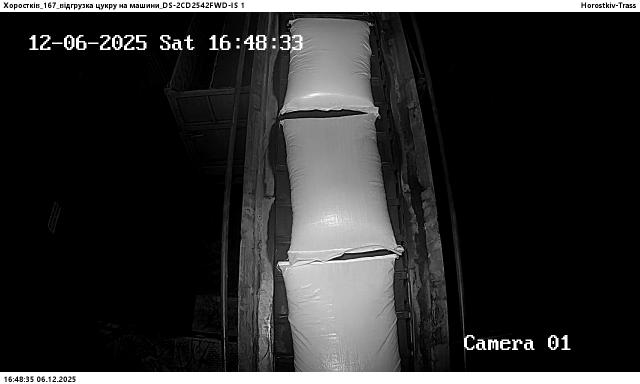bag: (282, 114, 404, 266), (279, 254, 402, 372), (280, 20, 380, 116)
